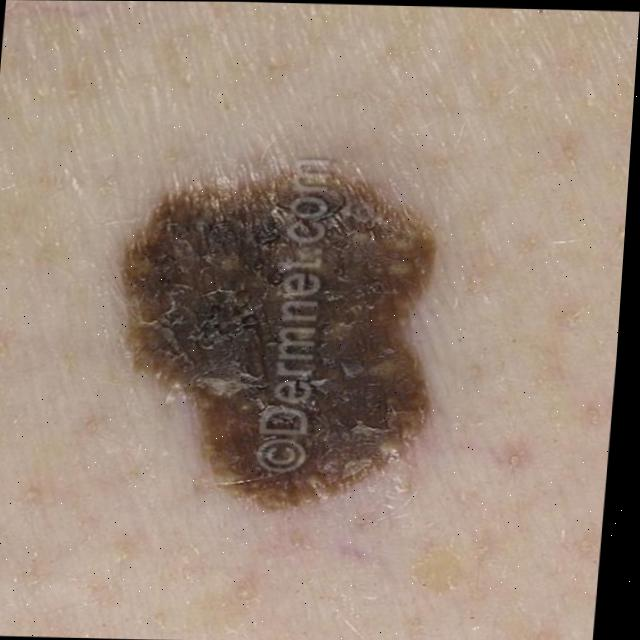Eczema: (134, 181, 452, 451)
